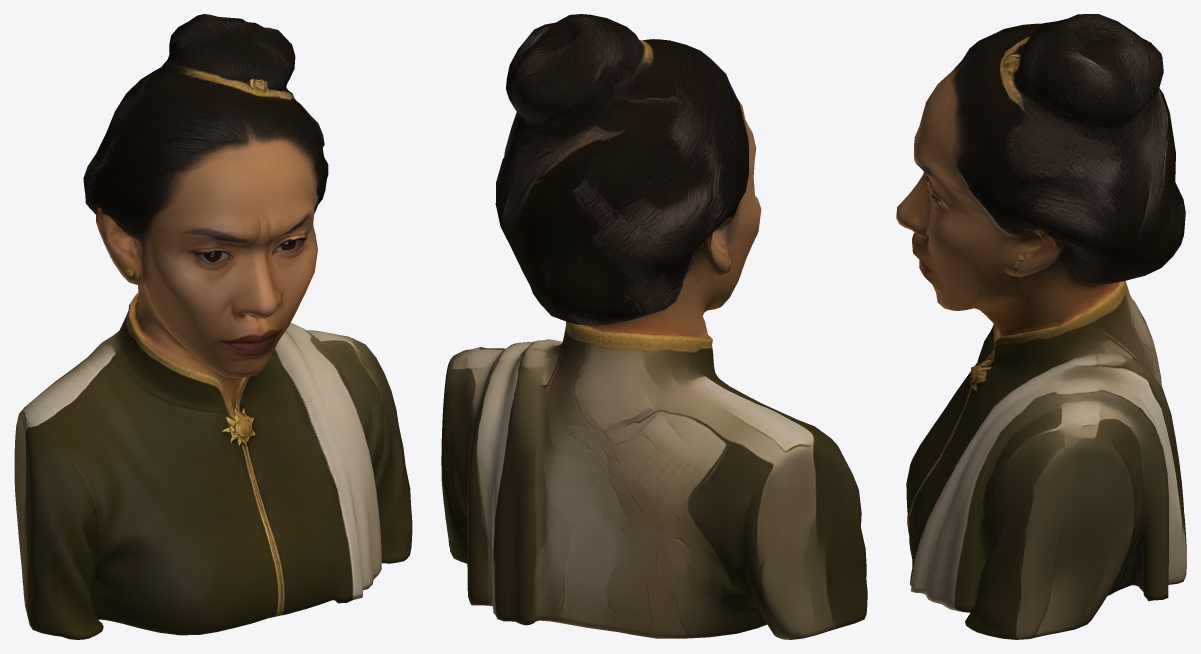
Rendered from cutnyak.glb.
3 views of the same model, side by side, from view 1: azimuth 30°, elevation 25°; view 2: azimuth 150°, elevation 25°; view 3: azimuth 270°, elevation 25° (orthographic). The views are drawn at different scales.
Parts seen in each view (by area): view 1: model; view 2: model; view 3: model.
Boxes of the visible parts, x1,y1,x2,y2 form: model: (14,14,412,639); model: (441,14,867,639); model: (896,14,1186,639).
Bounding box in the file's own units: 1.42 × 1.9 × 0.9185.
Materials: 1 (1 with a texture image).
